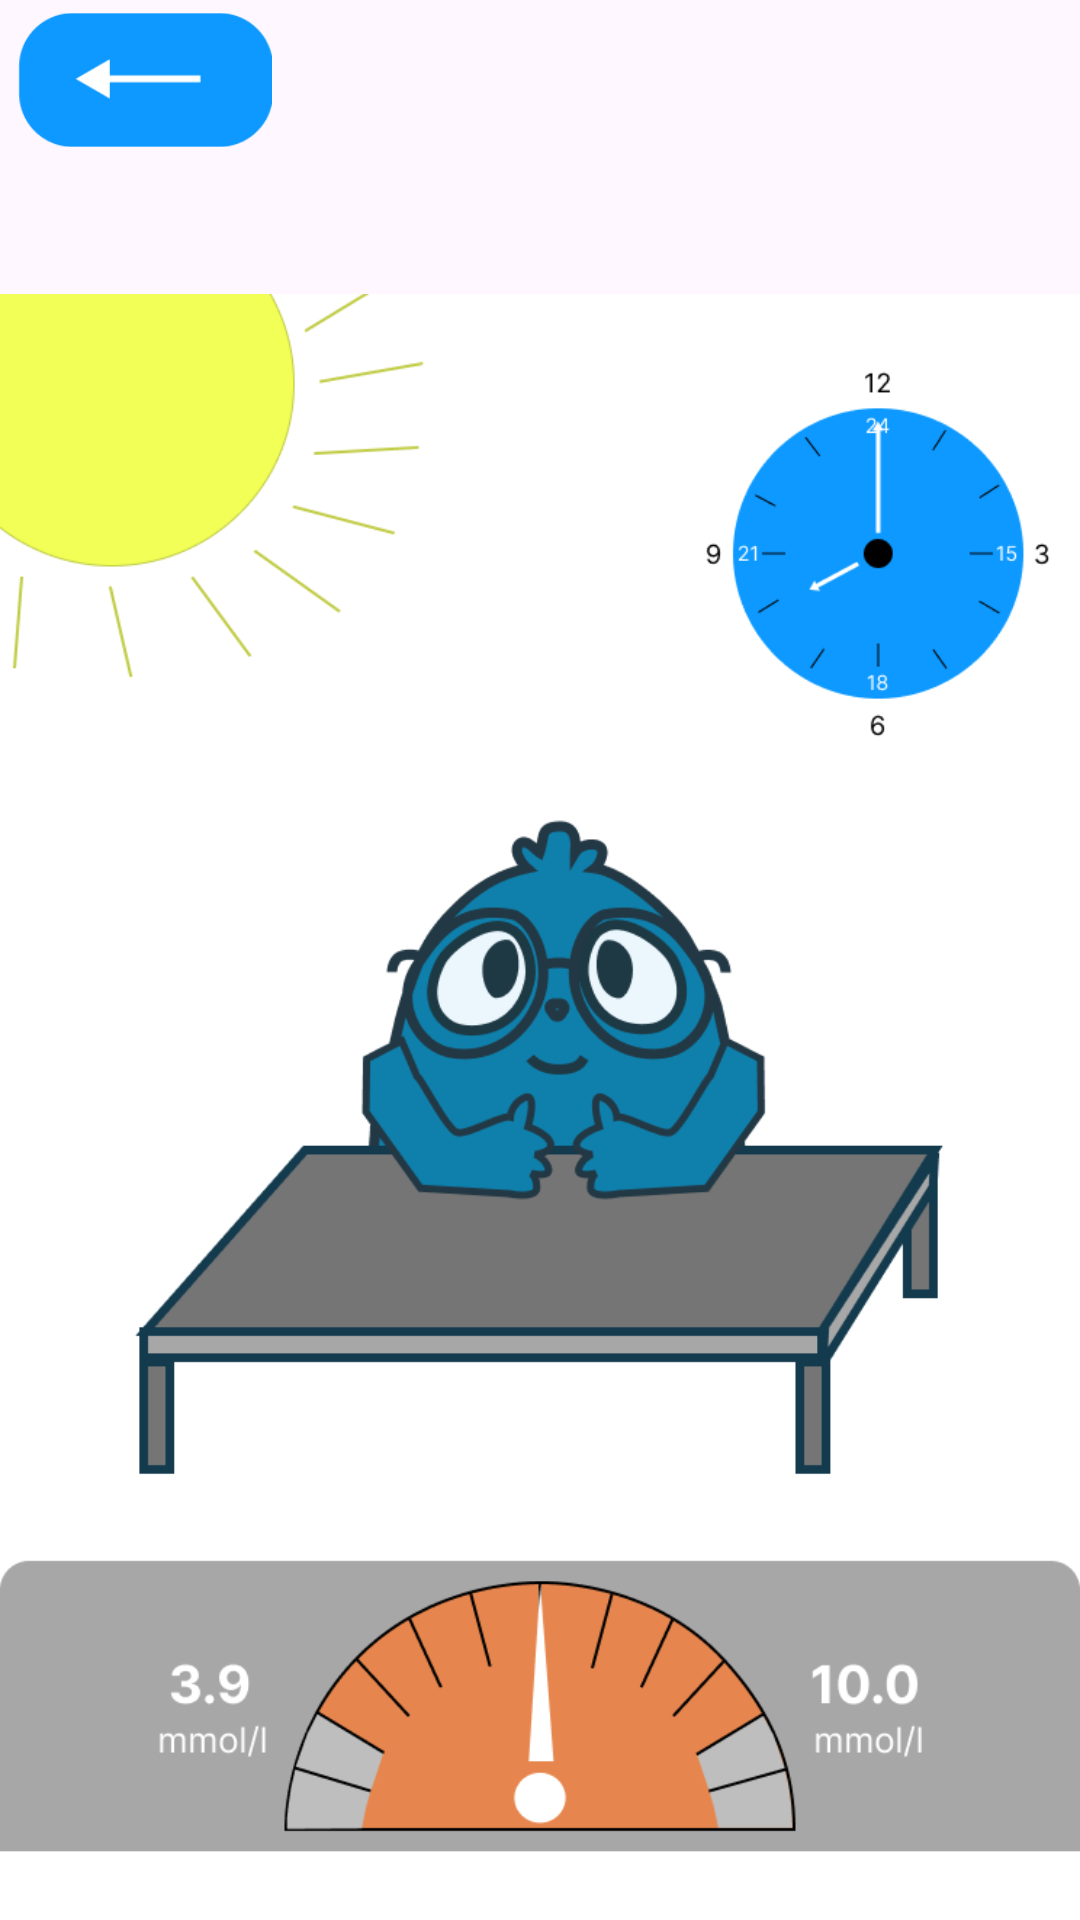

Point at icon controls on the screen. Image size 1080*1920, points as (x=x, y=y).
back: (x=145, y=80)
